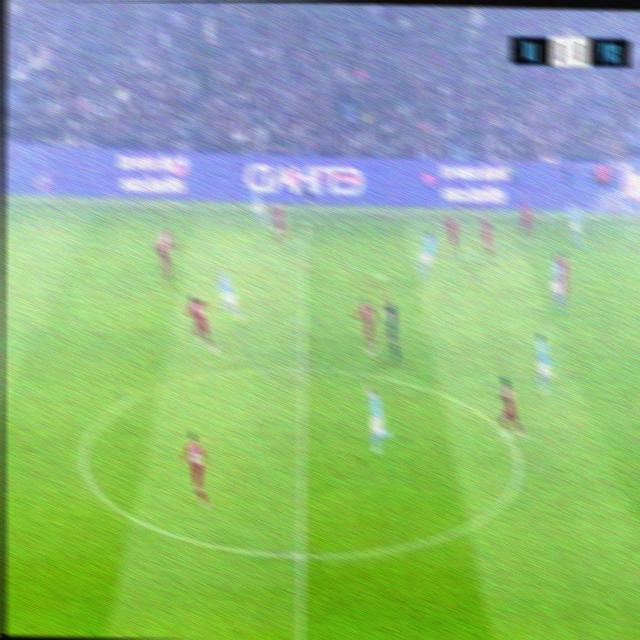halfcircle_bottom: (285, 534, 320, 574)
halfcircle_top: (287, 349, 319, 385)
midline_top_intersection: (294, 207, 316, 234)
